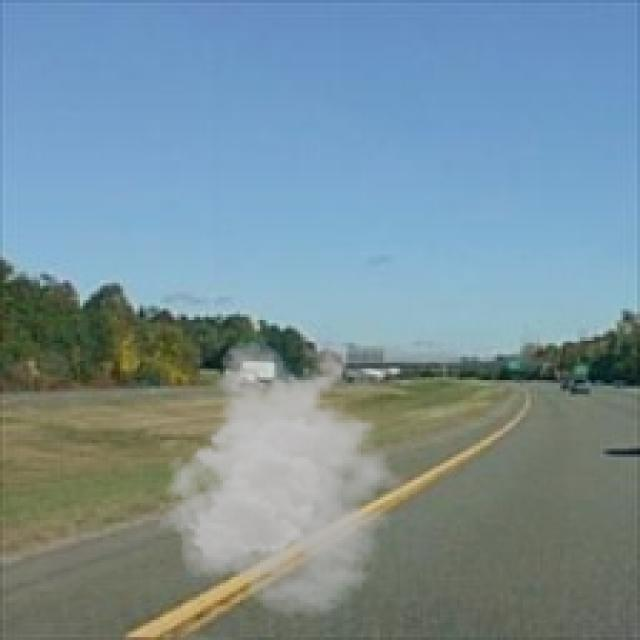smoke: (157, 337, 420, 617)
